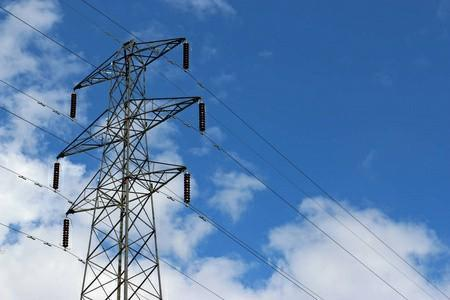power_tower: (47, 30, 206, 300)
